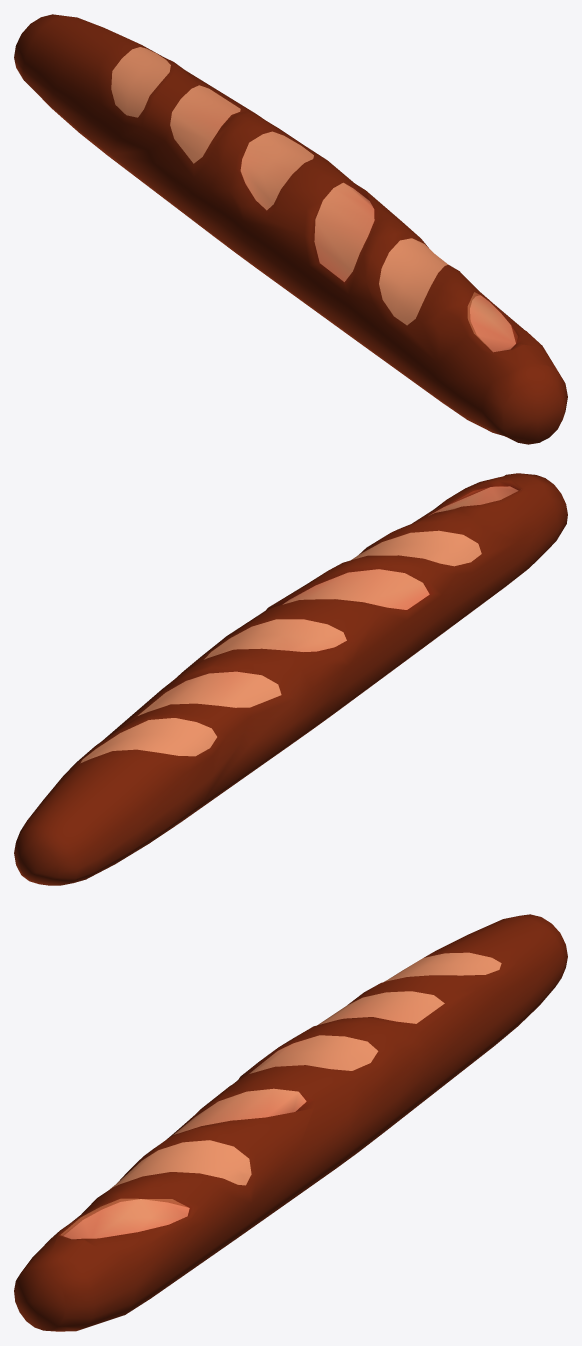
File: bag.fbx
The picture shows the model from 3 angles, top to bottom: view 1: azimuth 30°, elevation 25°; view 2: azimuth 150°, elevation 25°; view 3: azimuth 330°, elevation 25°; orthographic projection. The views are drawn at different scales.
Parts seen in each view (by area): view 1: Baguette_Regular; view 2: Baguette_Regular; view 3: Baguette_Regular.
Boxes of the visible parts, bbox=[...] form: Baguette_Regular: bbox=[14, 14, 567, 444]; Baguette_Regular: bbox=[14, 473, 567, 885]; Baguette_Regular: bbox=[14, 914, 567, 1331].
Bounding box in the file's own units: 28.57 × 24.39 × 211.
